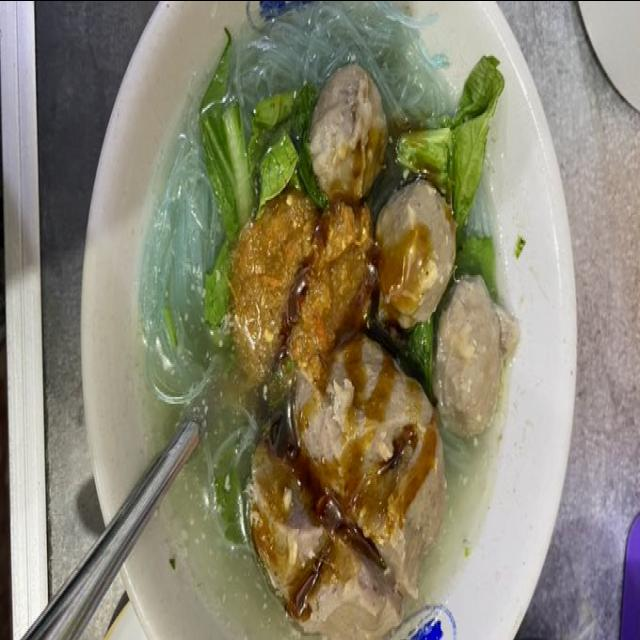bakso: (130, 0, 519, 640)
